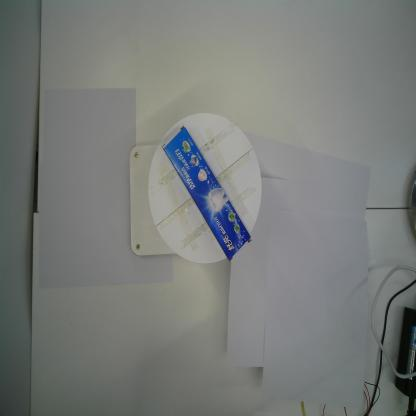Personal Hygiene: (162, 124, 252, 262)
